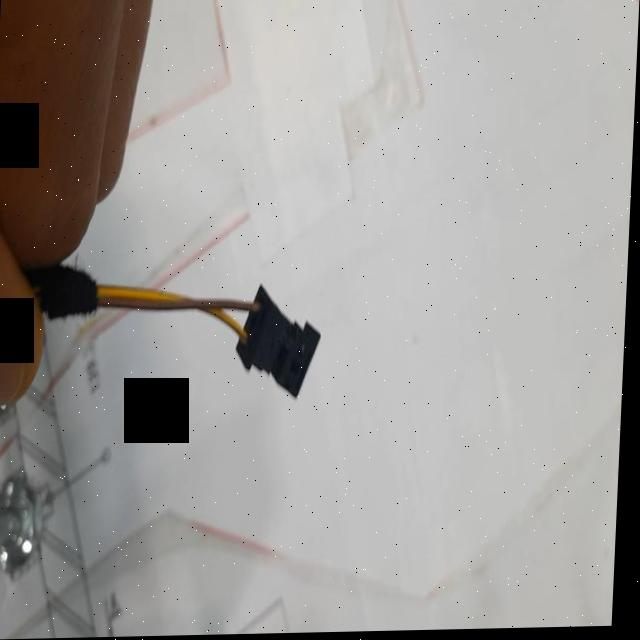connector: (240, 286, 323, 399)
